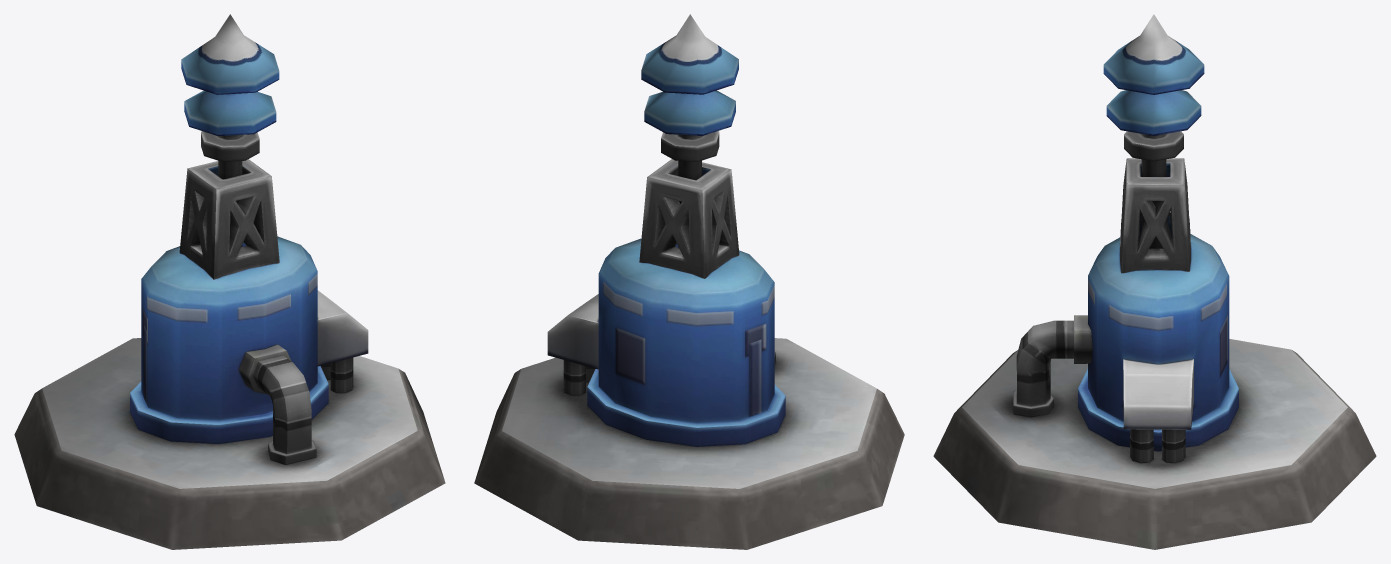
Rendered from energy-pilon.glb.
The picture shows the model from 3 angles, left to right: view 1: azimuth 30°, elevation 25°; view 2: azimuth 150°, elevation 25°; view 3: azimuth 270°, elevation 25°; orthographic projection.
Visible parts, largest first — view 1: pylon_level_1; view 2: pylon_level_1; view 3: pylon_level_1.
Boxes of the visible parts, box(x1,y1,x2,y2) form: pylon_level_1: box(14, 14, 445, 549); pylon_level_1: box(474, 14, 904, 549); pylon_level_1: box(933, 14, 1376, 549).
Bounding box in the file's own units: 1.83 × 2.01 × 1.83.
Materials: 1 (1 with a texture image).
